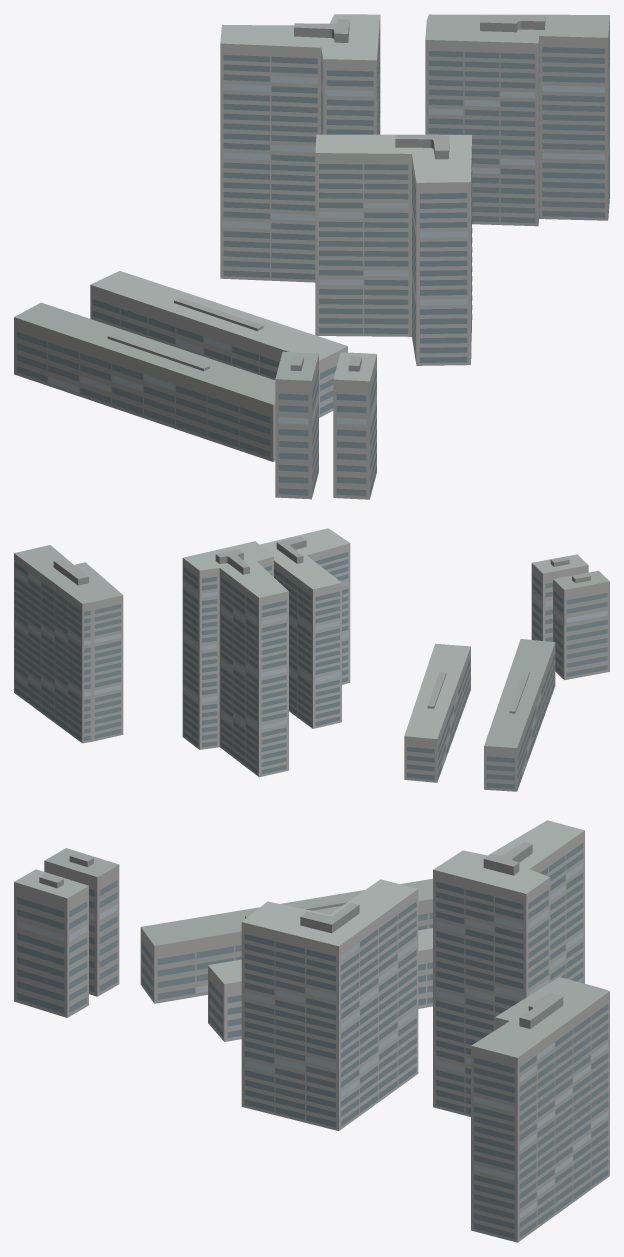
Rendered from apt-a15807306.glb.
3 views of the same model, one above another, from view 1: azimuth 30°, elevation 25°; view 2: azimuth 150°, elevation 25°; view 3: azimuth 270°, elevation 25° (orthographic). The views are drawn at different scales.
Visible parts, largest first — view 1: apt-a15807306; view 2: apt-a15807306; view 3: apt-a15807306.
Part boxes in pixels (x1,y1,x2,y2): apt-a15807306: [14, 14, 609, 499]; apt-a15807306: [14, 528, 609, 791]; apt-a15807306: [14, 820, 609, 1242].
Size of the model in its own units: 175 by 65 by 142.
